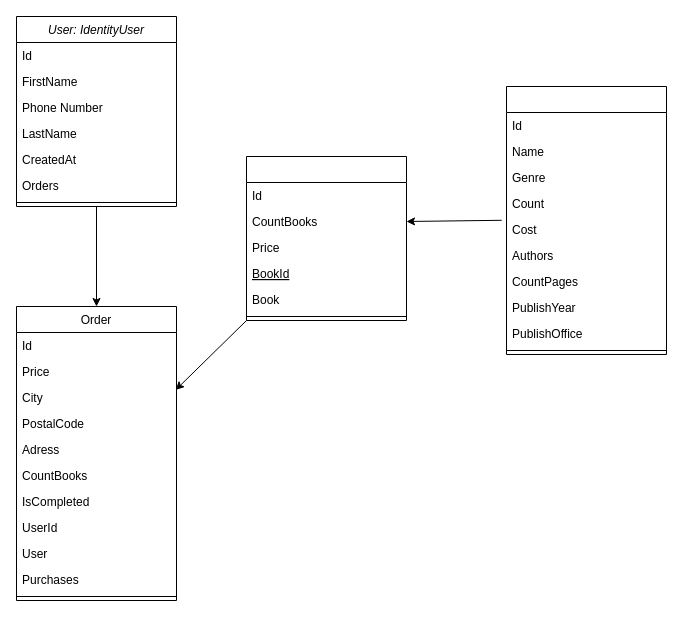
Image size: 683x617. Some labels were removed from this diagram. Here are the shapes that lost their labels. From the top down, the box of each, then its label:
(246, 156, 406, 320): Purchase
(506, 86, 666, 354): StoreBook
